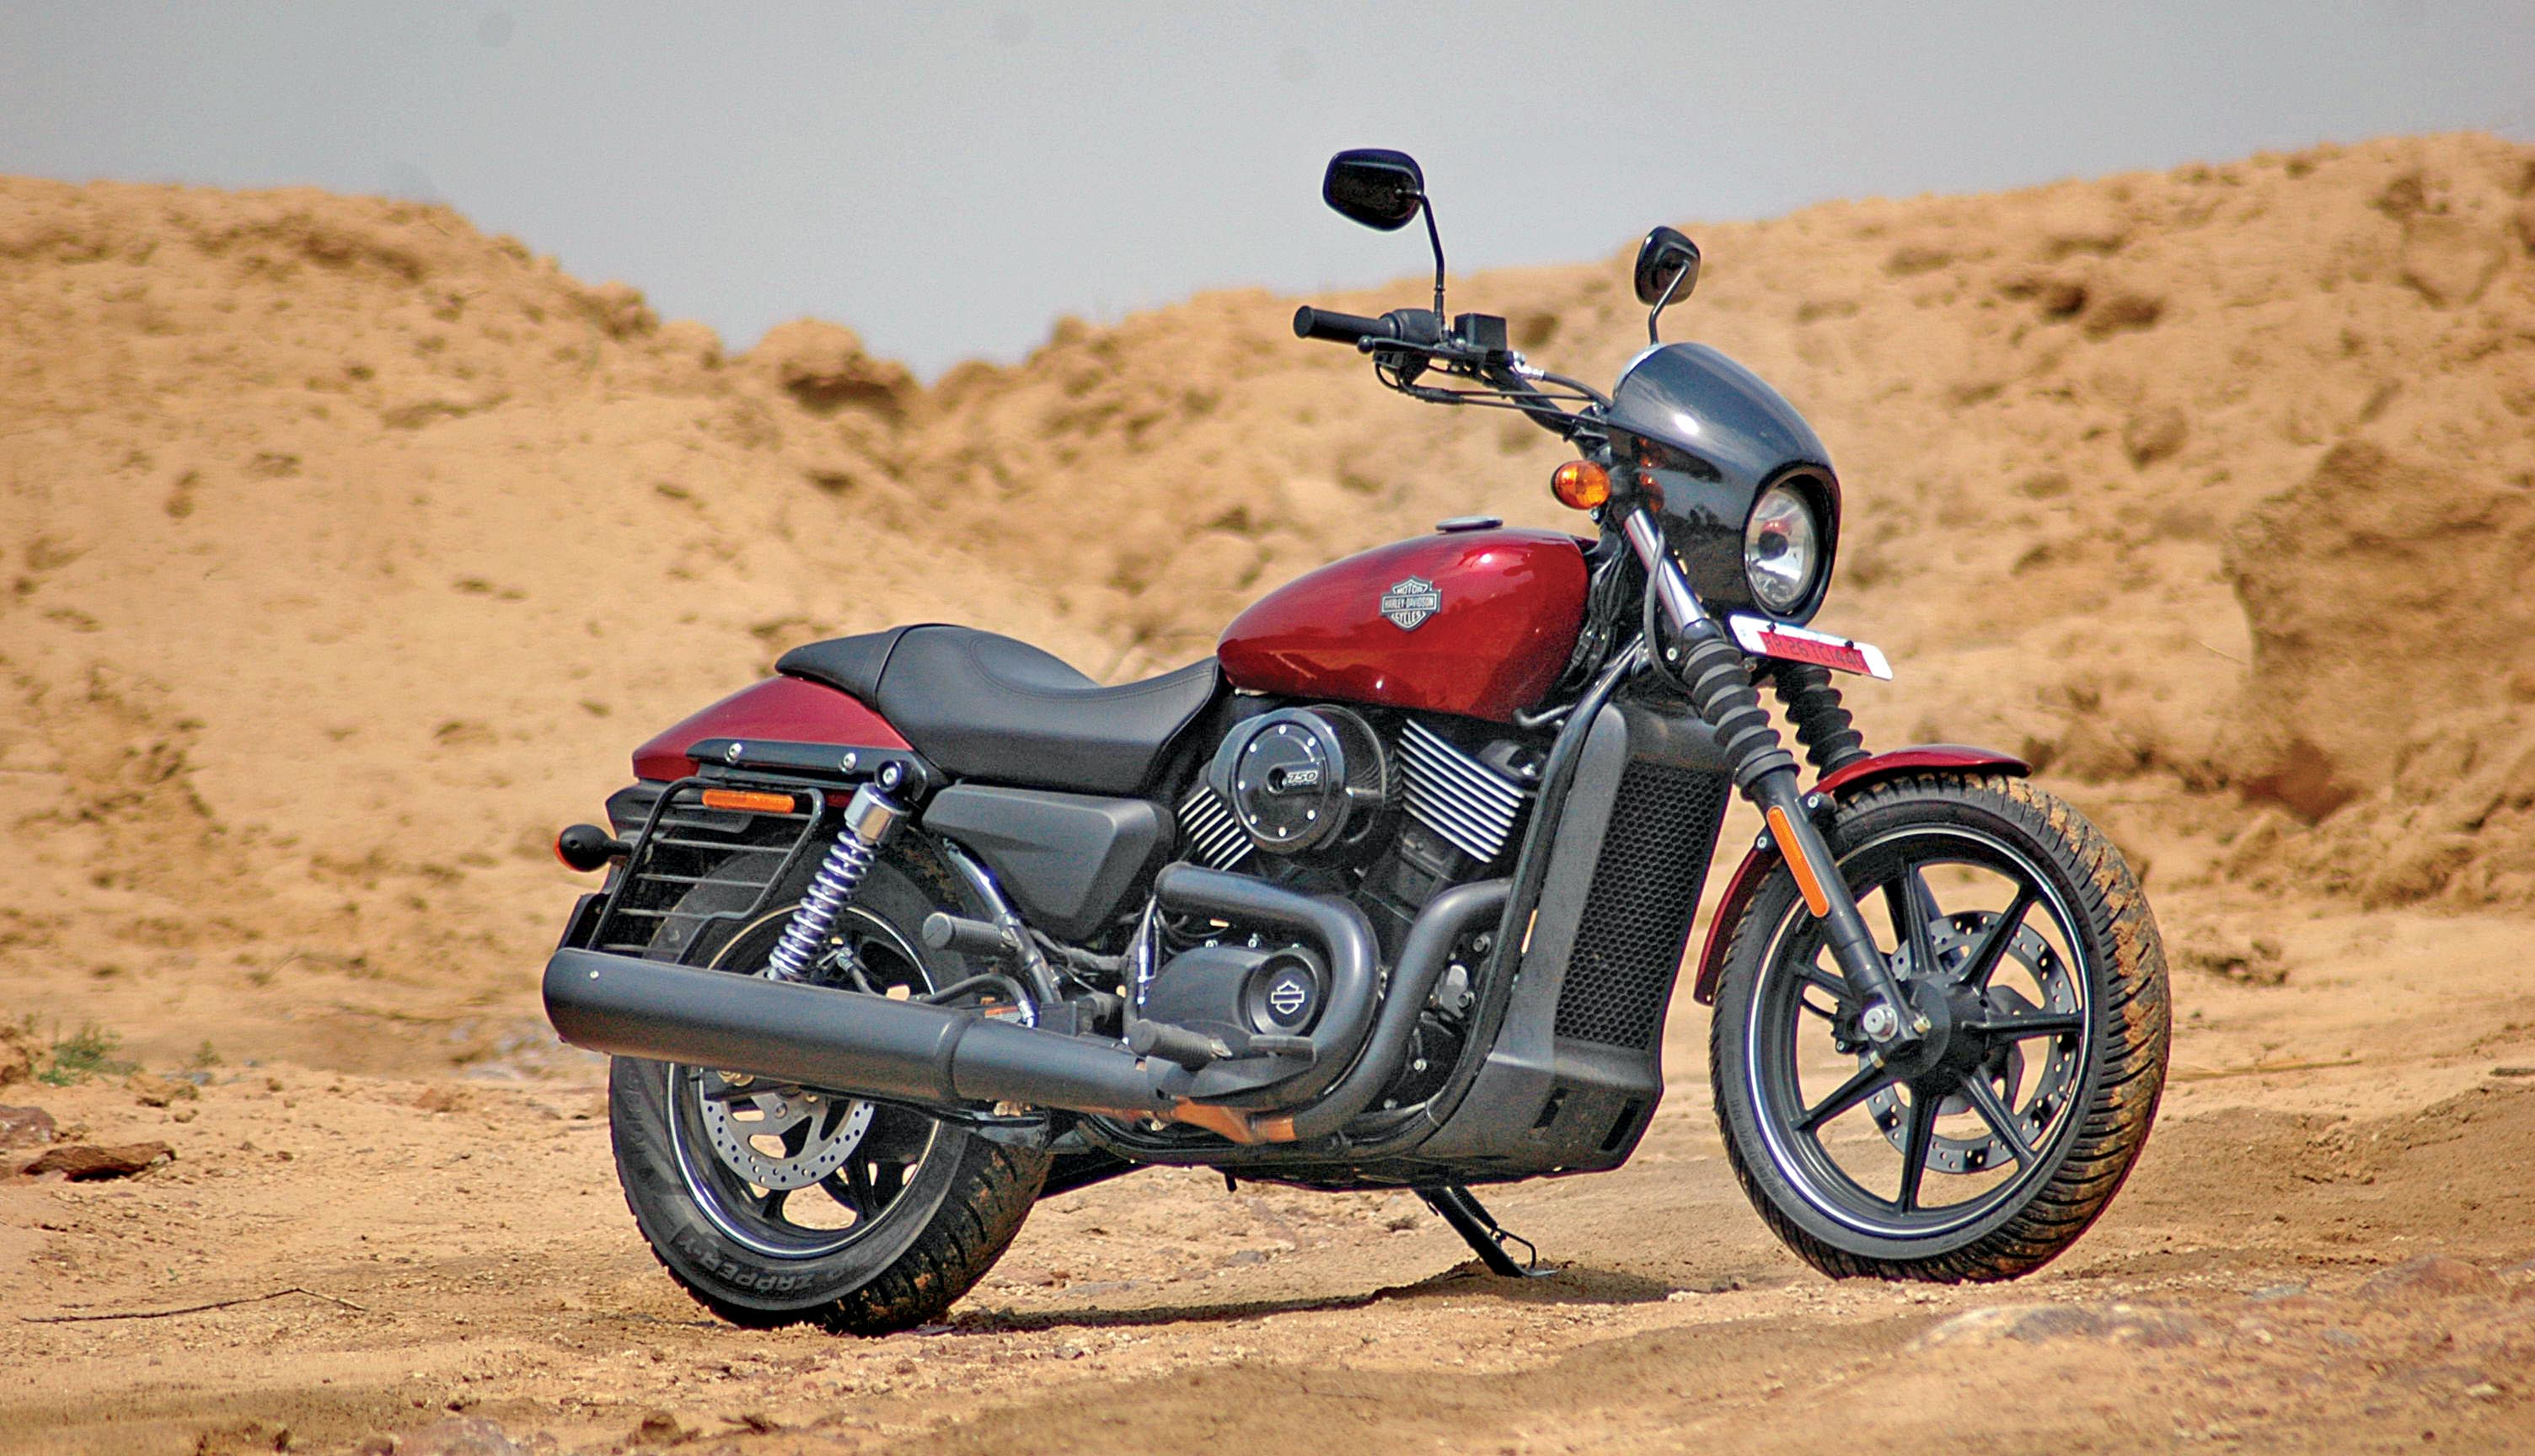motorbike: (494, 312, 2229, 1345)
